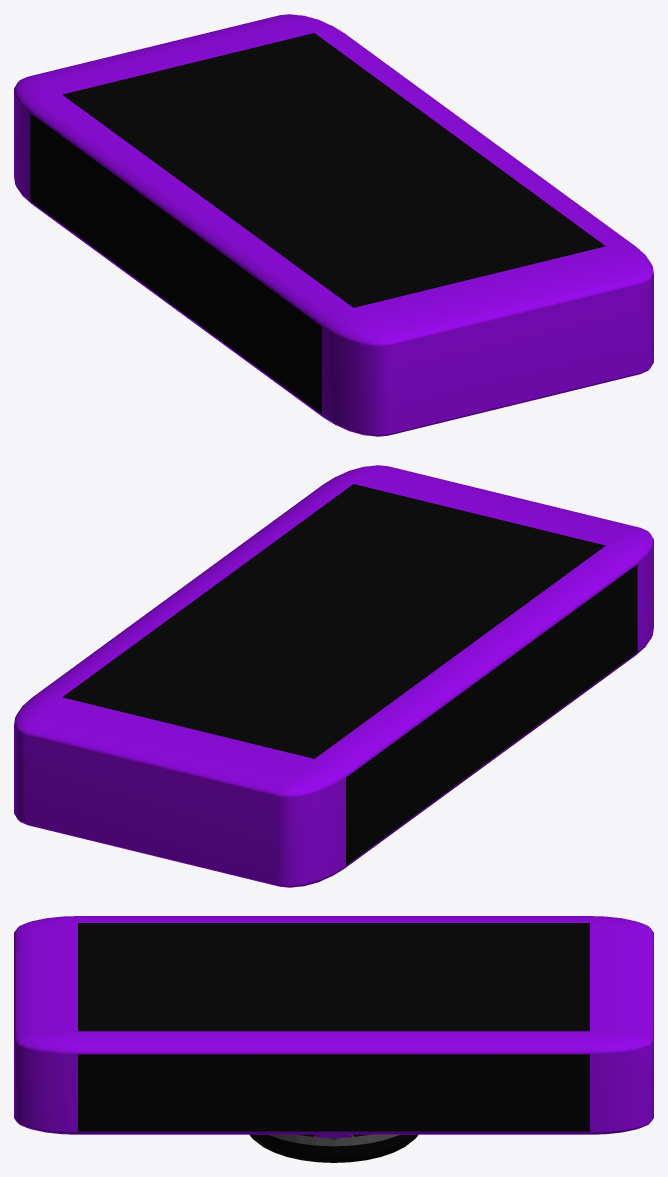
The model's file is Platform.fbx.
The picture shows the model from 3 angles, top to bottom: view 1: azimuth 30°, elevation 25°; view 2: azimuth 150°, elevation 25°; view 3: azimuth 270°, elevation 25°; orthographic projection. The views are drawn at different scales.
Visible parts, largest first — view 1: Platform_LOD0; view 2: Platform_LOD0; view 3: Platform_LOD0.
Boxes of the visible parts, box(x1,y1,x2,y2) form: Platform_LOD0: box(14, 14, 653, 436); Platform_LOD0: box(14, 465, 653, 887); Platform_LOD0: box(14, 916, 653, 1162).
Size of what is drawn, in the model's own units: 1.5 by 0.7744 by 3.
